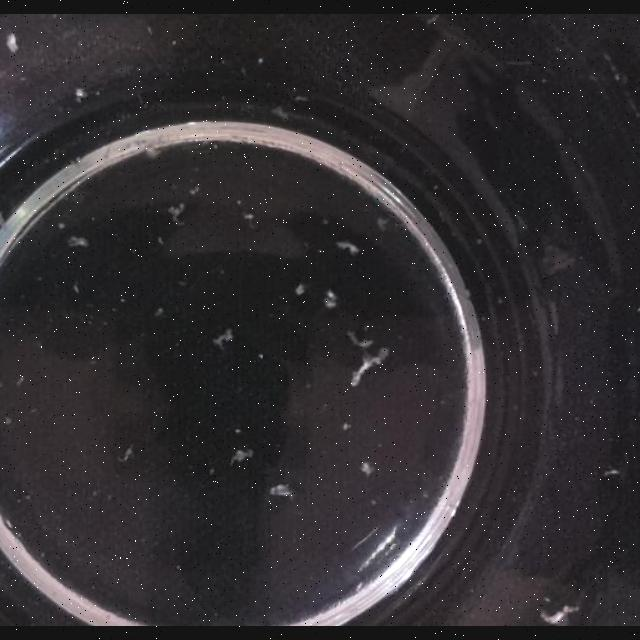Fibre: (348, 336, 392, 388), (542, 604, 578, 626), (348, 329, 374, 349), (167, 204, 187, 226), (213, 328, 234, 348), (268, 483, 294, 499), (230, 448, 252, 466), (336, 240, 359, 256), (118, 445, 136, 463), (322, 290, 338, 310), (270, 105, 290, 121), (67, 236, 89, 248), (144, 146, 162, 160), (360, 461, 374, 477), (294, 282, 306, 296), (0, 203, 6, 227)
microbeads: (6, 32, 20, 52), (154, 306, 166, 318), (341, 422, 351, 432), (16, 376, 26, 386), (4, 518, 12, 530), (4, 416, 12, 426), (256, 352, 264, 360), (256, 56, 264, 64), (208, 467, 215, 475), (234, 428, 242, 434), (176, 564, 182, 572), (636, 307, 640, 313)
